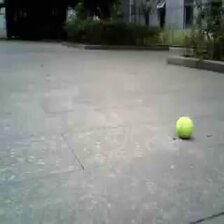tennis: (175, 116, 193, 139)
